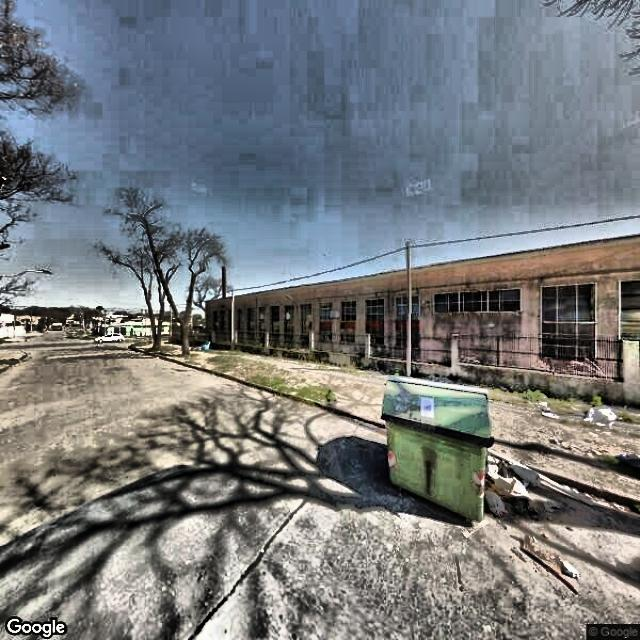garbage: (476, 444, 552, 526)
